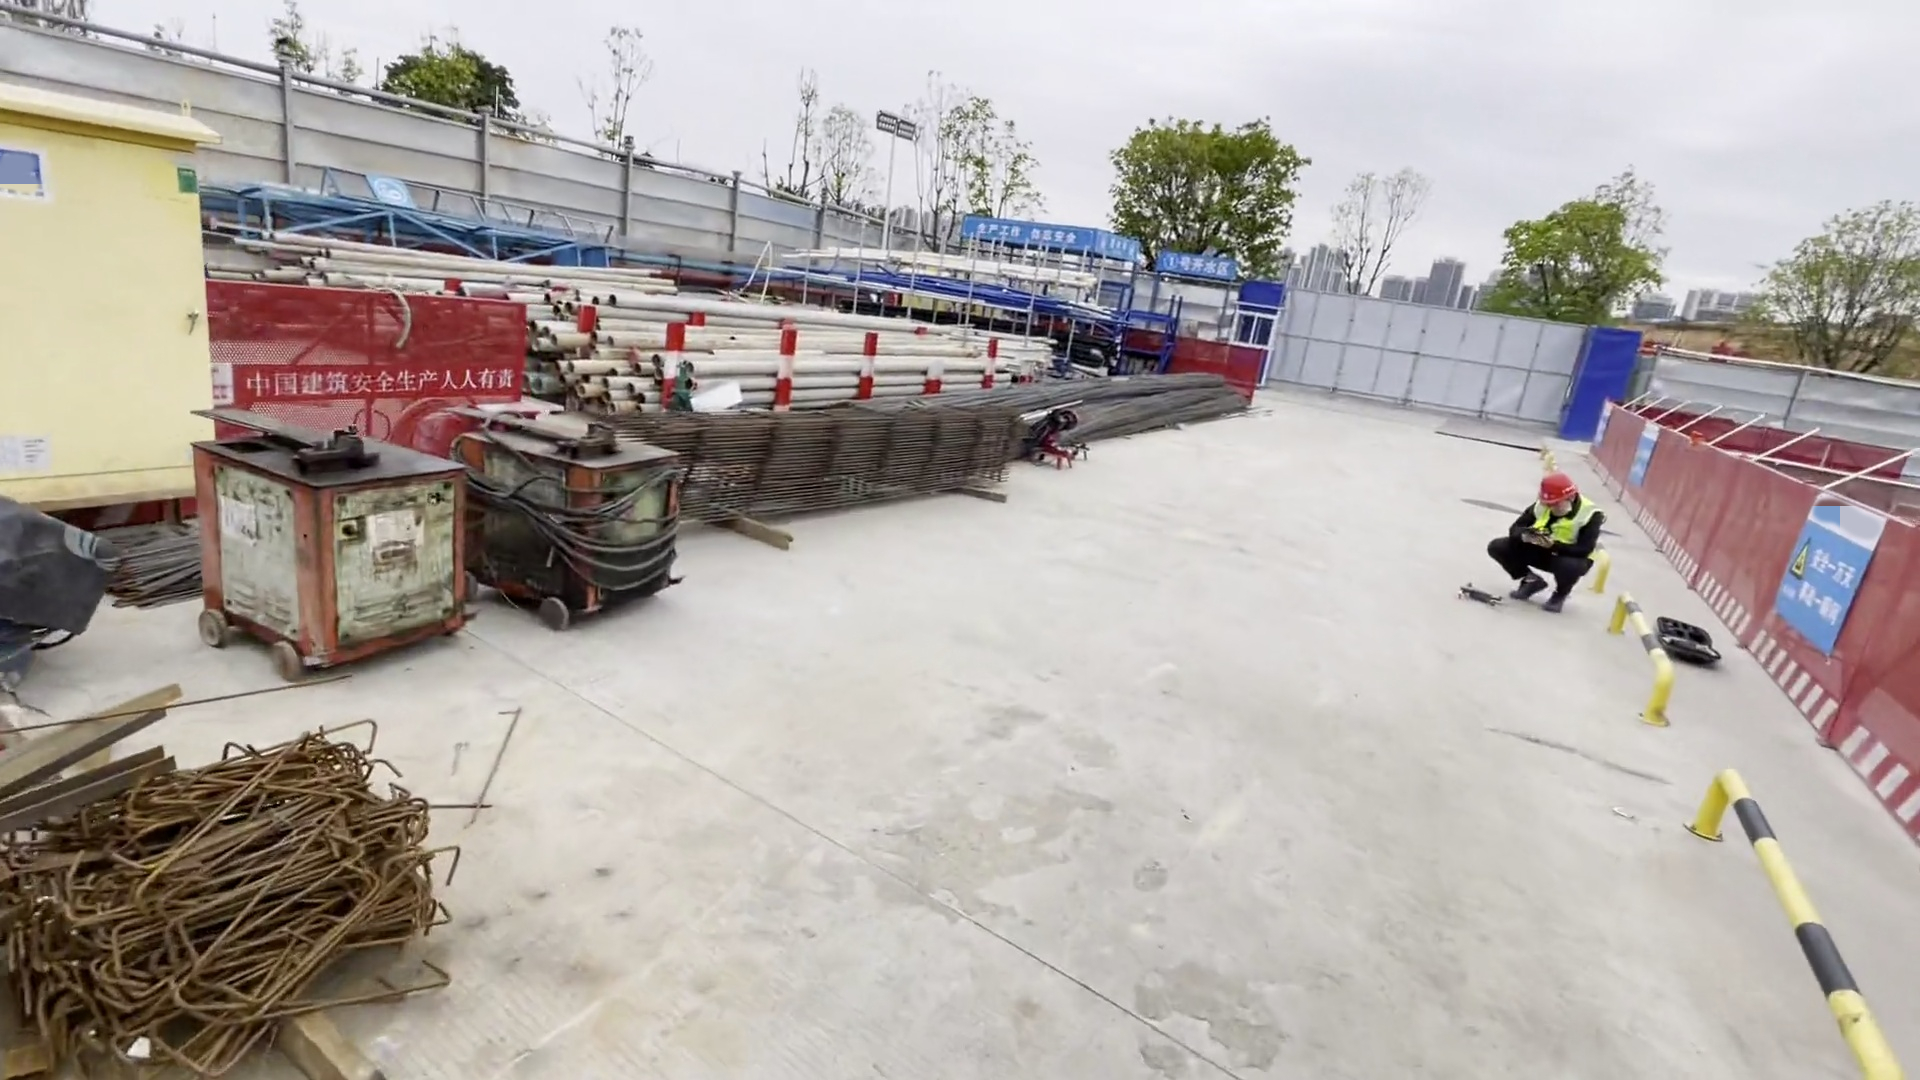cutter: (1026, 412, 1079, 476)
ebox: (1, 94, 225, 521)
fence: (1591, 408, 1920, 812)
helmet: (1536, 476, 1574, 500)
person: (1485, 474, 1606, 633)
rebar: (812, 369, 1255, 464)
slogan: (1767, 528, 1868, 633), (976, 212, 1084, 252)
vest: (1533, 502, 1589, 550)
